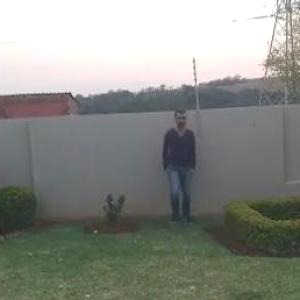follow: (160, 103, 198, 228)
